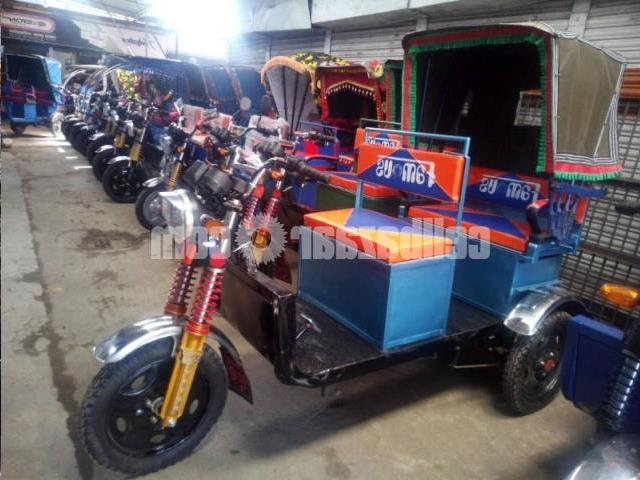Rickshaw: (97, 15, 621, 457)
